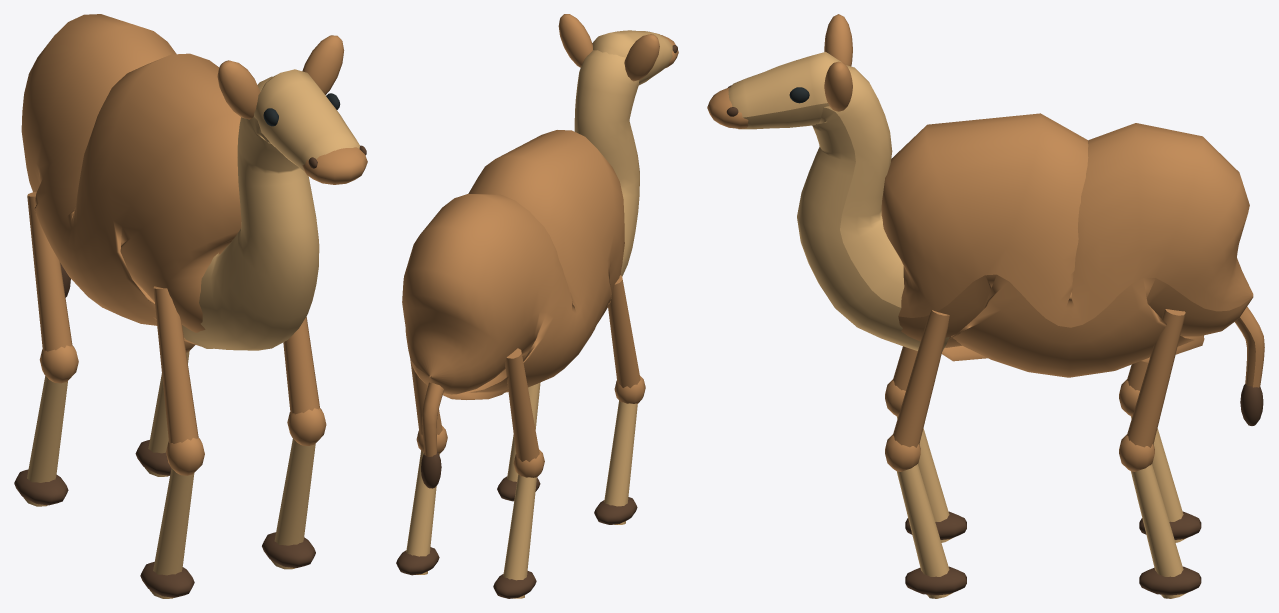
File: camel-catalog.glb
The picture shows the model from 3 angles, left to right: view 1: azimuth 30°, elevation 25°; view 2: azimuth 150°, elevation 25°; view 3: azimuth 270°, elevation 25°; orthographic projection. The views are drawn at different scales.
Parts seen in each view (by area): view 1: camel-body-static-material-1, camel-body-static-material-2, camel-upper-leg (×3), camel-lower-leg (×4), camel-padded-foot (×4), camel-knee (×3); view 2: camel-body-static-material-1, camel-body-static-material-2, camel-lower-leg (×4), camel-upper-leg (×3), camel-padded-foot (×4), camel-tail-static-material-1, camel-knee (×2), camel-tail-static-material-2; view 3: camel-body-static-material-1, camel-body-static-material-2, camel-lower-leg (×4), camel-upper-leg (×2), camel-padded-foot (×2), camel-knee (×2), camel-tail-static-material-1, camel-tail-static-material-2.
Part boxes in pixels (x1,y1,x2,y2): camel-body-static-material-1: [21, 14, 367, 346]; camel-body-static-material-2: [182, 69, 359, 350]; camel-upper-leg (×3): [27, 192, 319, 443]; camel-lower-leg (×4): [23, 351, 315, 598]; camel-padded-foot (×4): [14, 440, 315, 597]; camel-knee (×3): [39, 345, 326, 475]; camel-body-static-material-1: [402, 14, 678, 399]; camel-body-static-material-2: [574, 30, 672, 310]; camel-lower-leg (×4): [406, 382, 637, 598]; camel-upper-leg (×3): [410, 275, 640, 461]; camel-padded-foot (×4): [396, 476, 637, 598]; camel-tail-static-material-1: [422, 376, 443, 456]; camel-knee (×2): [513, 376, 645, 477]; camel-tail-static-material-2: [421, 452, 441, 488]; camel-body-static-material-1: [707, 14, 1253, 377]; camel-body-static-material-2: [728, 52, 949, 351]; camel-lower-leg (×4): [896, 416, 1186, 598]; camel-upper-leg (×2): [892, 309, 1185, 447]; camel-padded-foot (×2): [905, 566, 1201, 595]; camel-knee (×2): [885, 434, 1154, 471]; camel-tail-static-material-1: [1235, 306, 1264, 387]; camel-tail-static-material-2: [1240, 384, 1263, 425].
Bounding box in the file's own units: 1.3 × 4.04 × 3.86.
